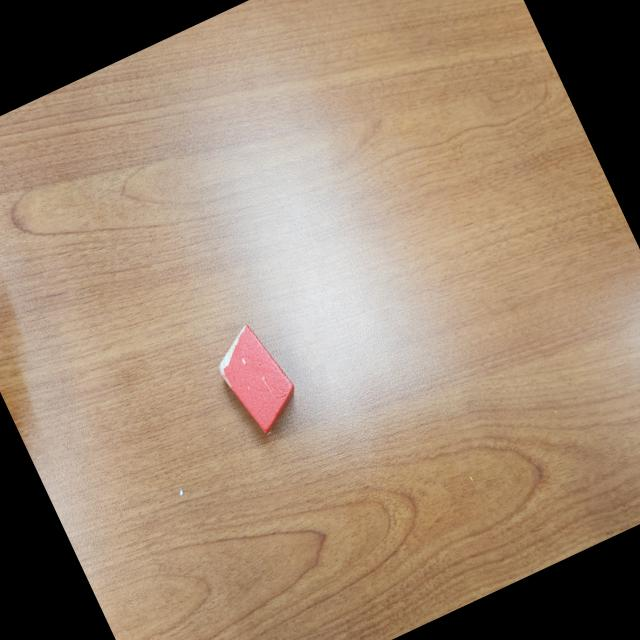broken: (205, 316, 308, 442)
